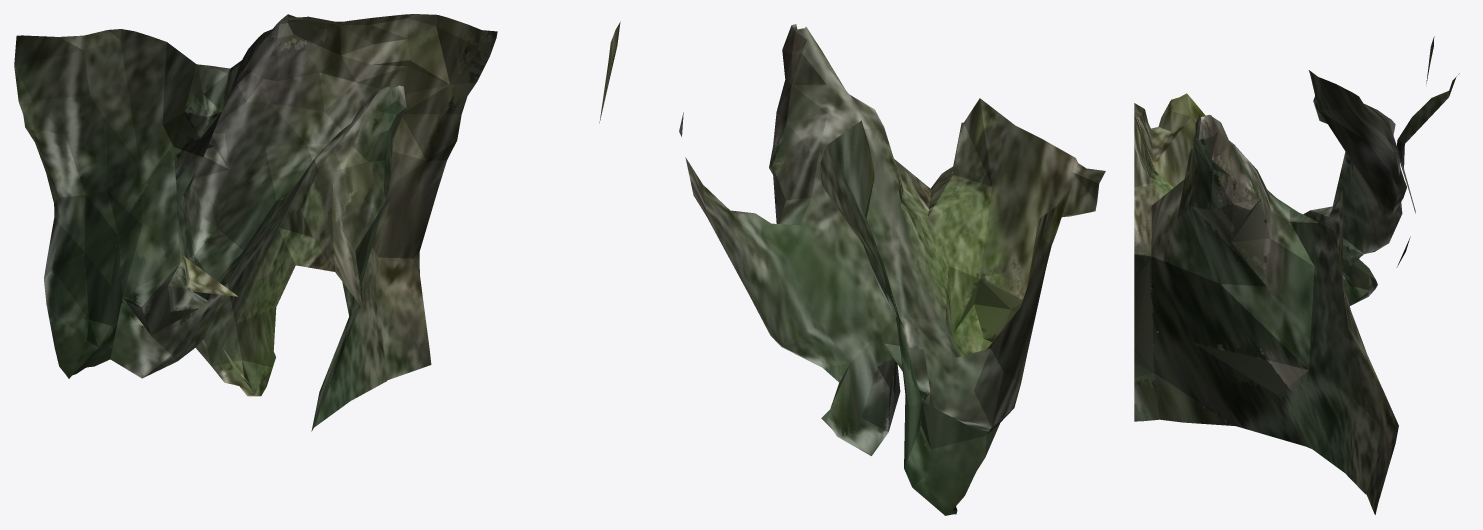
The picture shows the model from 3 angles, left to right: view 1: azimuth 30°, elevation 25°; view 2: azimuth 150°, elevation 25°; view 3: azimuth 270°, elevation 25°; orthographic projection. The views are drawn at different scales.
Bounding box in the file's own units: 2.95 × 2.95 × 2.61.
Materials: 5 (5 with a texture image).
